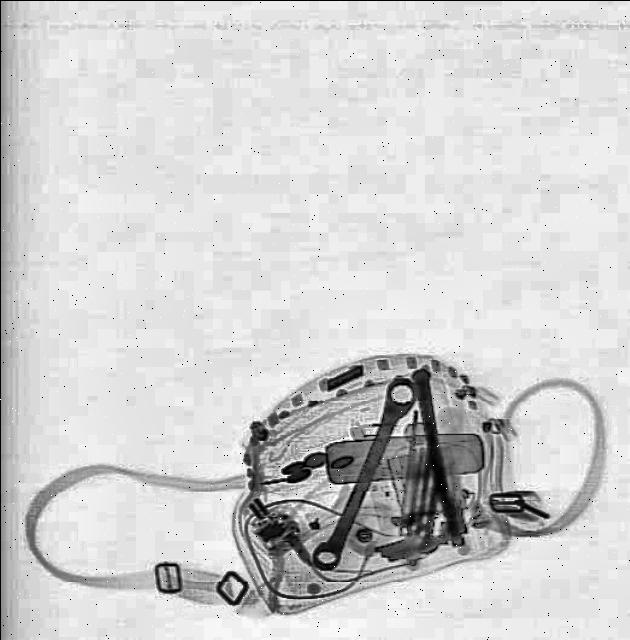Wrench: (302, 371, 421, 573)
